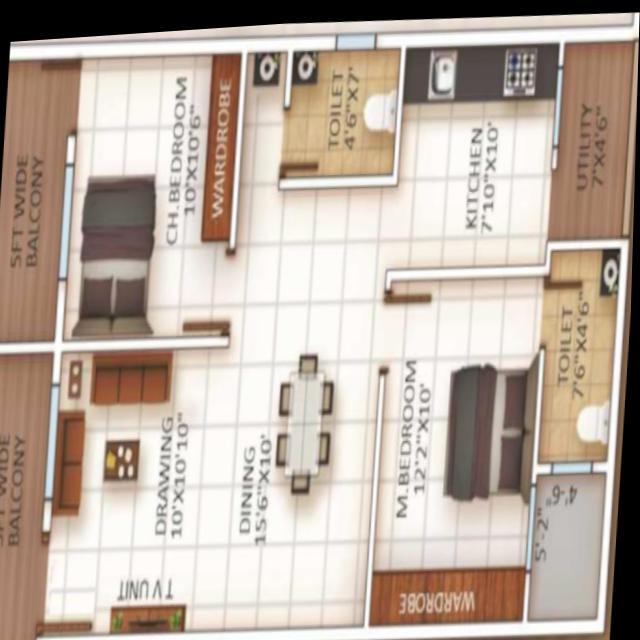Balcony-Sitout: (0, 38, 81, 342), (0, 334, 61, 640)
Bedroom: (54, 33, 251, 334)
Bedroom with Toilet: (373, 233, 632, 638)
Dining: (275, 341, 341, 494)
Kitchen: (393, 23, 566, 264)
Living: (37, 331, 232, 640)
Toilet: (536, 233, 632, 467), (280, 26, 408, 184)
Utility: (548, 24, 639, 250)
